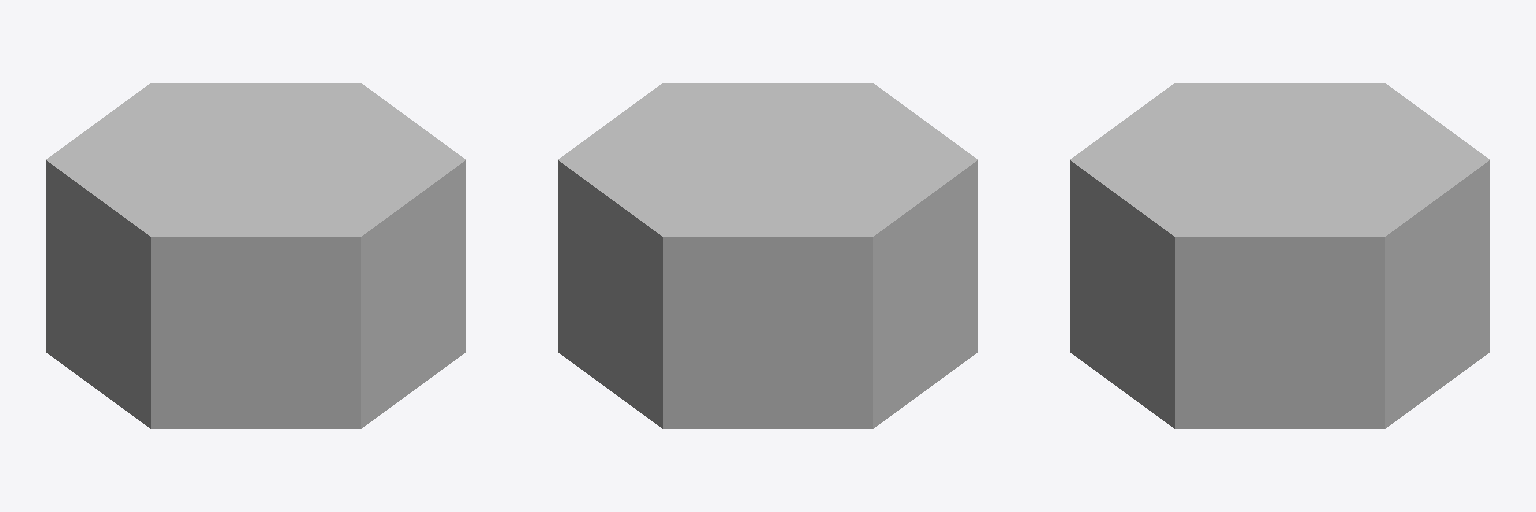
Rendered from hexagon.obj.
3 renders of one model, left to right at view 1: azimuth 30°, elevation 25°; view 2: azimuth 150°, elevation 25°; view 3: azimuth 270°, elevation 25°, orthographic.
Parts seen in each view (by area): view 1: Circle; view 2: Circle; view 3: Circle.
Part boxes in pixels (x1,y1,x2,y2): Circle: (46,83,465,428); Circle: (558,83,977,428); Circle: (1070,83,1489,428).
Bounding box in the file's own units: 1.73 × 1.01 × 2.